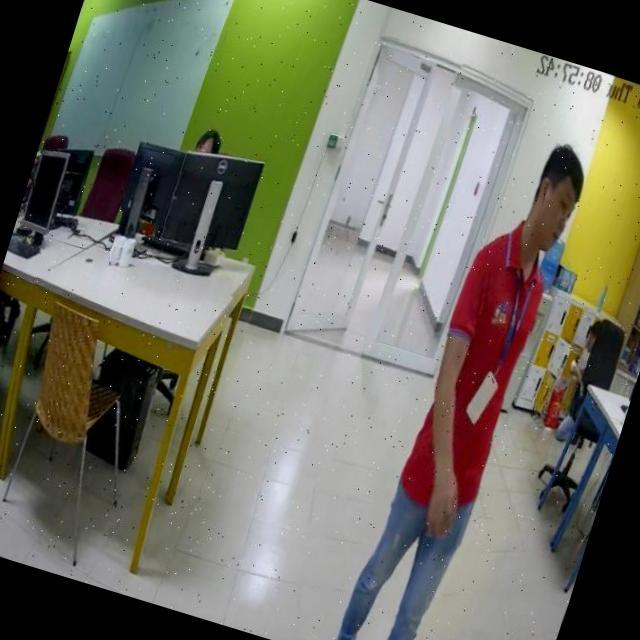person: (326, 117, 597, 640)
